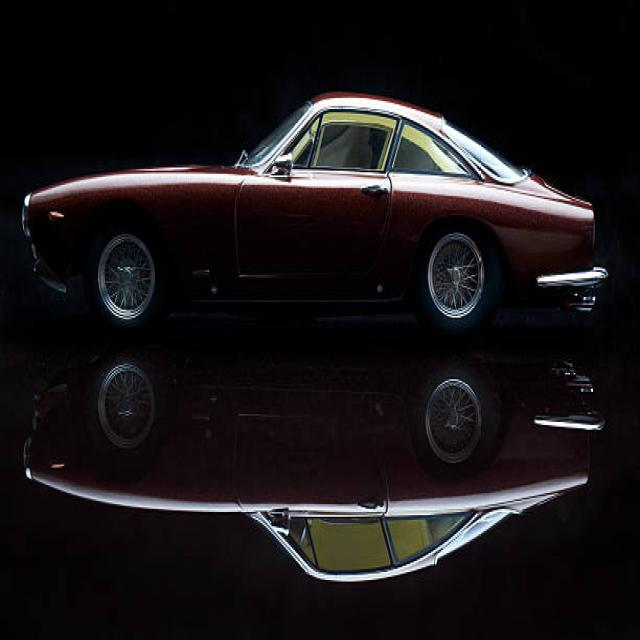Car: (21, 332, 605, 583), (20, 90, 607, 338)
